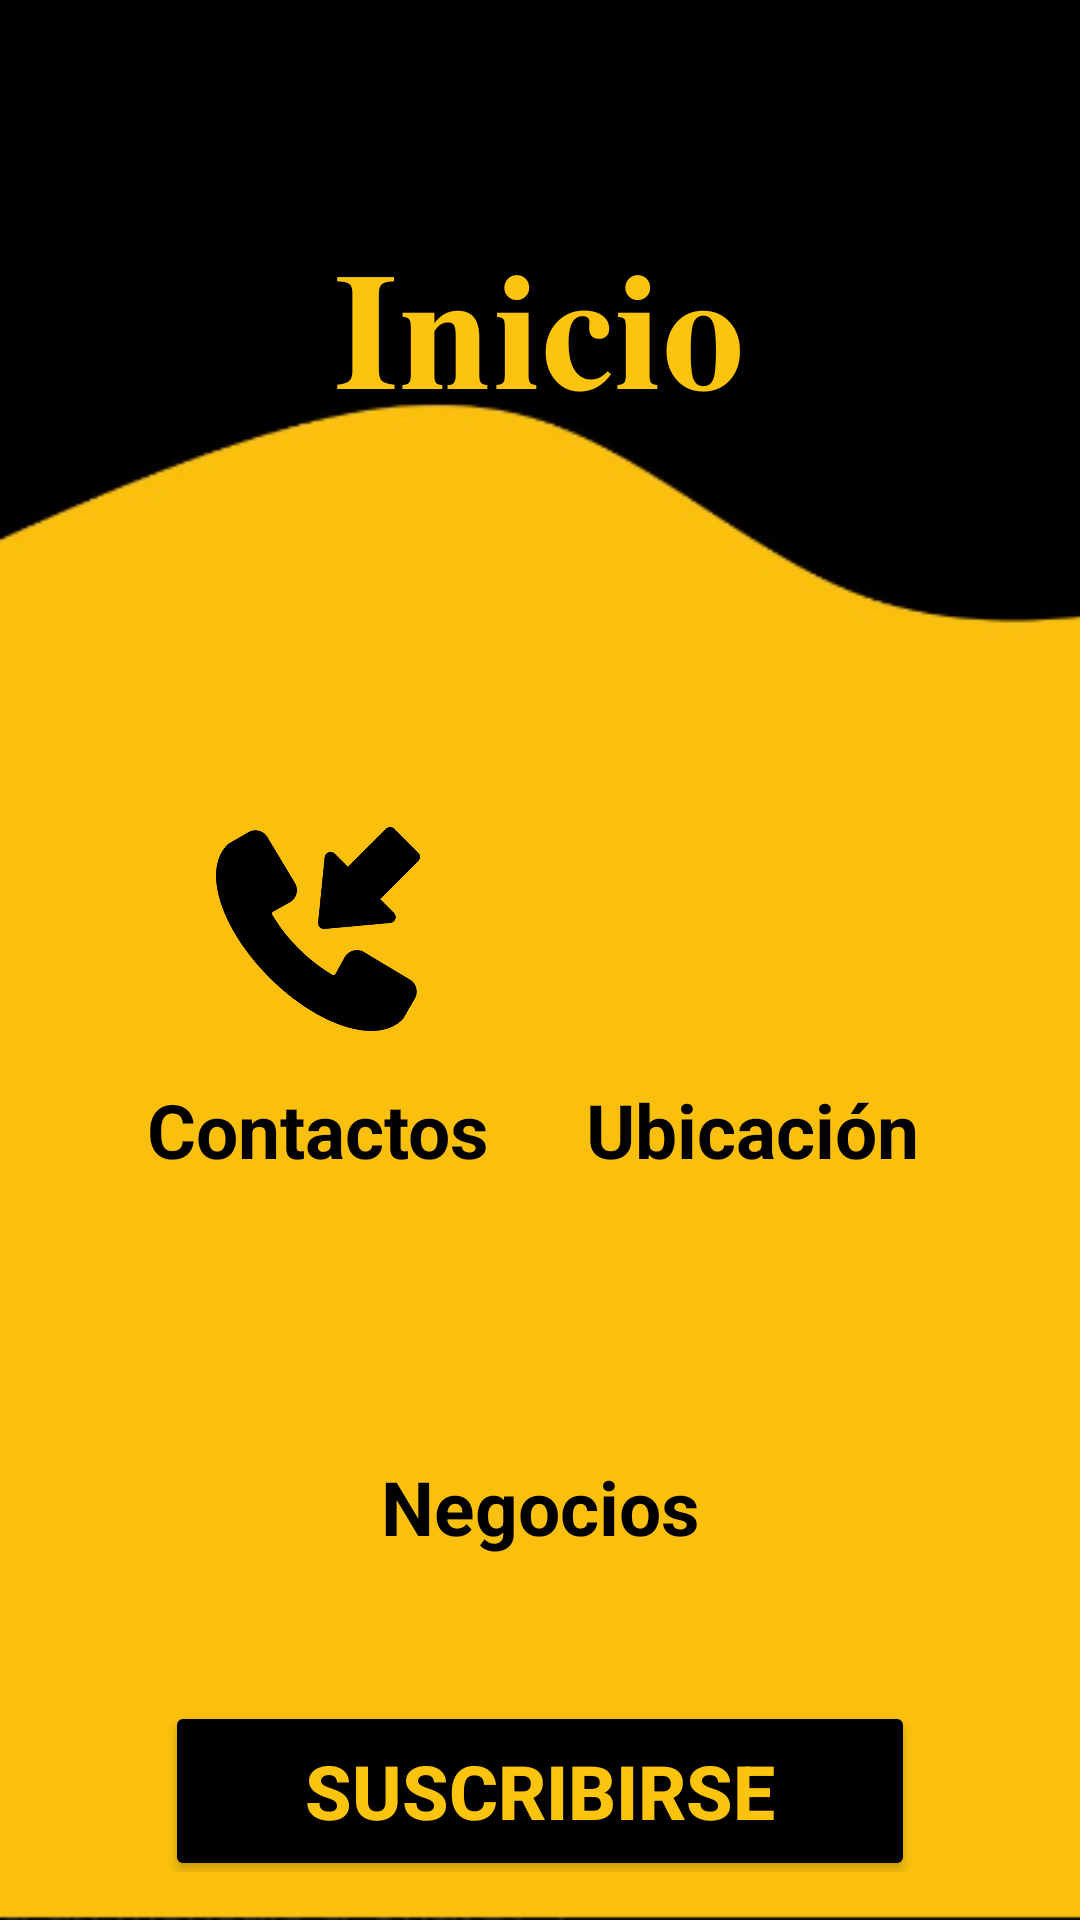

Icons on this 1080px×1920px Android screen, each with its box as BBox(x1, y1, x2, y2):
iconollamada: BBox(216, 827, 420, 1031)
